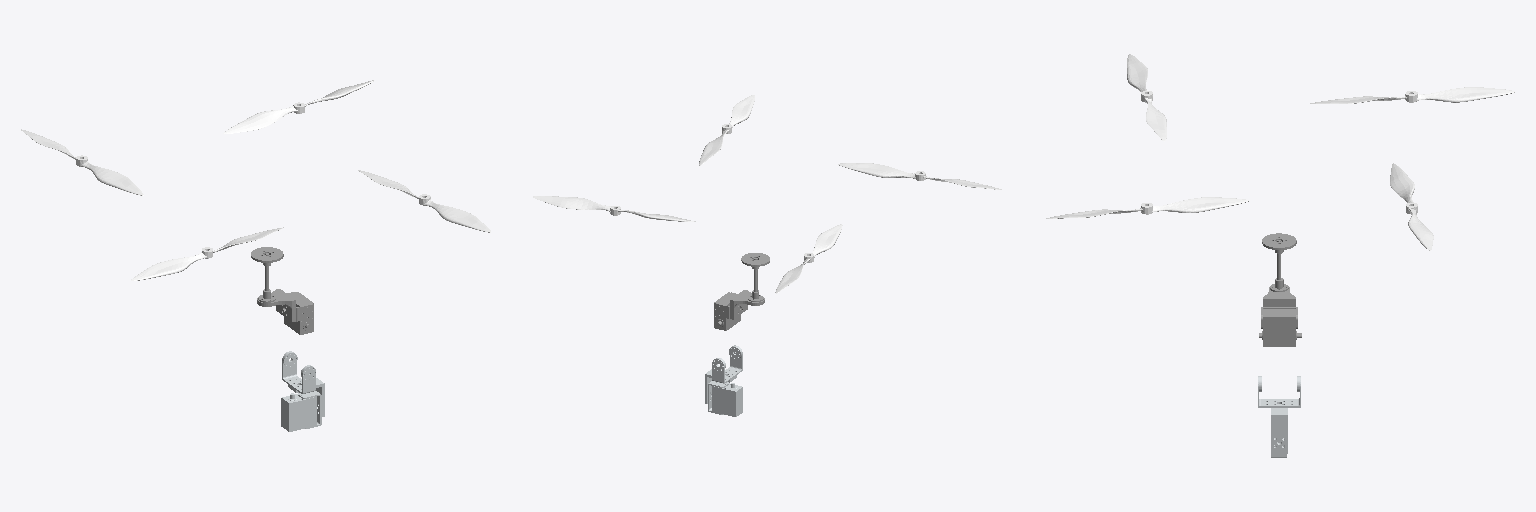
robot.urdf — hyper_robot5:
<?xml version="1.0" encoding="utf-8"?>
<!-- This URDF was automatically created by SolidWorks to URDF Exporter! Originally created by Stephen Brawner ([email redacted]) 
     Commit Version: 1.6.0-4-g7f85cfe  Build Version: 1.6.7995.38578
     For more information, please see http://wiki.ros.org/sw_urdf_exporter -->
<robot
  name="hyper_robot5">
  <link
    name="base_link">
    <inertial>
      <origin
        xyz="-0.00085945 -0.0078248 -0.031763"
        rpy="0 0 0" />
      <mass
        value="1.312" />
      <inertia
        ixx="0.0015808"
        ixy="-3.8244E-07"
        ixz="2.1856E-07"
        iyy="0.001767"
        iyz="2.7013E-07"
        izz="0.0028639" />
    </inertial>
    <visual>
      <origin
        xyz="0 0 0"
        rpy="0 0 0" />
      <geometry>
        <mesh
          filename="package://hyper_robot5/meshes/base_link.STL" />
      </geometry>
      <material
        name="">
        <color
          rgba="1 1 1 1" />
      </material>
    </visual>
    <collision>
      <origin
        xyz="0 -0.1 0"
        rpy="0 0 0" />
      <geometry>
        <!-- <mesh
          filename="package://hyper_robot5/meshes/base_link.STL" /> -->
        <box size="0.6 0.6 0.2" />
      </geometry>
    </collision>
  </link>
  <link
    name="Link1">
    <inertial>
      <origin
        xyz="0.03091 3.5089E-05 0.029993"
        rpy="0 0 0" />
      <mass
        value="0.11138" />
      <inertia
        ixx="2.6005E-05"
        ixy="-2.14E-13"
        ixz="2.8039E-07"
        iyy="1.7177E-05"
        iyz="3.7239E-08"
        izz="1.71E-05" />
    </inertial>
    <visual>
      <origin
        xyz="0 0 0"
        rpy="0 0 0" />
      <geometry>
        <mesh
          filename="package://hyper_robot5/meshes/Link1.STL" />
      </geometry>
      <material
        name="">
        <color
          rgba="0.69804 0.69804 0.69804 1" />
      </material>
    </visual>
    <!-- <collision>
      <origin
        xyz="0 0 0"
        rpy="0 0 0" />
      <geometry>
        <mesh
          filename="package://hyper_robot5/meshes/Link1.STL" />
      </geometry>
    </collision> -->
  </link>
  <joint
    name="Joint0"
    type="revolute">
    <origin
      xyz="0.02 0 -0.18065"
      rpy="0 0 0" />
    <parent
      link="base_link" />
    <child
      link="Link1" />
    <axis
      xyz="0 0 1" />
    <limit
      lower="-1.5707"
      upper="1.5707"
      effort="1"
      velocity="1" />
  </joint>
  <link
    name="Link2">
    <inertial>
      <origin
        xyz="0.044669 -3.9552E-15 -7.8627E-06"
        rpy="0 0 0" />
      <mass
        value="0.089477" />
      <inertia
        ixx="1.9359E-05"
        ixy="3.3333E-19"
        ixz="3.7239E-08"
        iyy="2.6927E-05"
        iyz="3.7967E-21"
        izz="1.3371E-05" />
    </inertial>
    <visual>
      <origin
        xyz="0 0 0"
        rpy="0 0 0" />
      <geometry>
        <mesh
          filename="package://hyper_robot5/meshes/Link2.STL" />
      </geometry>
      <material
        name="">
        <color
          rgba="0.89804 0.91765 0.92941 1" />
      </material>
    </visual>
    <!-- <collision>
      <origin
        xyz="0 0 0"
        rpy="0 0 0" />
      <geometry>
        <mesh
          filename="package://hyper_robot5/meshes/Link2.STL" />
      </geometry>
    </collision> -->
  </link>
  <joint
    name="Joint1"
    type="revolute">
    <origin
      xyz="0.0465 0 0"
      rpy="1.5708 1.5708 0" />
    <parent
      link="Link1" />
    <child
      link="Link2" />
    <axis
      xyz="0 0 1" />
    <limit
      lower="-1.5707"
      upper="1.5707"
      effort="1"
      velocity="1" />
  </joint>
  <link
    name="Link3">
    <inertial>
      <origin
        xyz="-0.0027639 0.053128 3.399E-05"
        rpy="0 0 0" />
      <mass
        value="0.09428" />
      <inertia
        ixx="2.1264E-05"
        ixy="4.9299E-07"
        ixz="3.2007E-18"
        iyy="1.7761E-05"
        iyz="-5.243E-19"
        izz="2.4231E-05" />
    </inertial>
    <visual>
      <origin
        xyz="0 0 0"
        rpy="0 0 0" />
      <geometry>
        <mesh
          filename="package://hyper_robot5/meshes/Link3.STL" />
      </geometry>
      <material
        name="">
        <color
          rgba="0.89804 0.91765 0.92941 1" />
      </material>
    </visual>
    <!-- <collision>
      <origin
        xyz="0 0 0"
        rpy="0 0 0" />
      <geometry>
        <mesh
          filename="package://hyper_robot5/meshes/Link3.STL" />
      </geometry>
    </collision> -->
  </link>
  <joint
    name="Joint2"
    type="revolute">
    <origin
      xyz="0.06365 0 0"
      rpy="0 0 -1.5708" />
    <parent
      link="Link2" />
    <child
      link="Link3" />
    <axis
      xyz="0 0 -1" />
    <limit
      lower="-1.5707"
      upper="1.5707"
      effort="1"
      velocity="1" />
  </joint>
  <link
    name="Link4">
    <inertial>
      <origin
        xyz="2.867E-14 0.0031256 -0.024086"
        rpy="0 0 0" />
      <mass
        value="0.09428" />
      <inertia
        ixx="2.8558E-05"
        ixy="-5.4313E-20"
        ixz="1.1994E-18"
        iyy="1.7996E-05"
        iyz="4.1851E-07"
        izz="1.6701E-05" />
    </inertial>
    <visual>
      <origin
        xyz="0 0 0"
        rpy="0 0 0" />
      <geometry>
        <mesh
          filename="package://hyper_robot5/meshes/Link4.STL" />
      </geometry>
      <material
        name="">
        <color
          rgba="0.89804 0.91765 0.92941 1" />
      </material>
    </visual>
    <!-- <collision>
      <origin
        xyz="0 0 0"
        rpy="0 0 0" />
      <geometry>
        <mesh
          filename="package://hyper_robot5/meshes/Link4.STL" />
      </geometry>
    </collision> -->
  </link>
  <joint
    name="Joint3"
    type="revolute">
    <origin
      xyz="0.00965 0.13565 0"
      rpy="1.5708 -1.5708 0" />
    <parent
      link="Link3" />
    <child
      link="Link4" />
    <axis
      xyz="0 0 1" />
    <limit
      lower="-1.5707"
      upper="1.5707"
      effort="1"
      velocity="1" />
  </joint>
  <link
    name="Link5">
    <inertial>
      <origin
        xyz="-9.7548E-14 0.044044 8.1785E-05"
        rpy="0 0 0" />
      <mass
        value="0.039183" />
      <inertia
        ixx="2.725E-05"
        ixy="4.2357E-17"
        ixz="-4.6187E-18"
        iyy="8.1409E-06"
        iyz="3.2941E-18"
        izz="2.2451E-05" />
    </inertial>
    <visual>
      <origin
        xyz="0 0 0"
        rpy="0 0 0" />
      <geometry>
        <mesh
          filename="package://hyper_robot5/meshes/Link5.STL" />
      </geometry>
      <material
        name="">
        <color
          rgba="0.89804 0.91765 0.92941 1" />
      </material>
    </visual>
    <!-- <collision>
      <origin
        xyz="0 0 0"
        rpy="0 0 0" />
      <geometry>
        <mesh
          filename="package://hyper_robot5/meshes/Link5.STL" />
      </geometry>
    </collision> -->
  </link>
  <joint
    name="Joint4"
    type="revolute">
    <origin
      xyz="0 0 0"
      rpy="1.5708 0 0" />
    <parent
      link="Link4" />
    <child
      link="Link5" />
    <axis
      xyz="0 0 1" />
    <limit
      lower="-1.5707"
      upper="1.5707"
      effort="1"
      velocity="1" />
  </joint>
  <link
    name="Link6">
    <inertial>
      <origin
        xyz="-2.6202E-08 -2.259E-08 -0.067545"
        rpy="0 0 0" />
      <mass
        value="0.0096839" />
      <inertia
        ixx="1.0979E-05"
        ixy="-1.7005E-13"
        ixz="1.5693E-11"
        iyy="1.0979E-05"
        iyz="1.3536E-11"
        izz="1.0733E-07" />
    </inertial>
    <visual>
      <origin
        xyz="0 0 0"
        rpy="0 0 0" />
      <geometry>
        <mesh
          filename="package://hyper_robot5/meshes/Link6.STL" />
      </geometry>
      <material
        name="">
        <color
          rgba="0.69804 0.69804 0.69804 1" />
      </material>
    </visual>
    <!-- <collision>
      <origin
        xyz="0 0 0"
        rpy="0 0 0" />
      <geometry>
        <mesh
          filename="package://hyper_robot5/meshes/Link6.STL" />
      </geometry>
    </collision> -->
  </link>
  <joint
    name="Joint5"
    type="revolute">
    <origin
      xyz="0 0.17738 0"
      rpy="-1.5708 0 0" />
    <parent
      link="Link5" />
    <child
      link="Link6" />
    <axis
      xyz="0 0 1" />
    <limit
      lower="-1.5707"
      upper="1.5707"
      effort="1"
      velocity="1" />
  </joint>
  <link
    name="rotor0">
    <inertial>
      <origin
        xyz="1.9715E-13 -0.0044832 -3.5041E-14"
        rpy="0 0 0" />
      <mass
        value="0.022944" />
      <inertia
        ixx="8.117E-07"
        ixy="-1.5304E-17"
        ixz="2.5395E-06"
        iyy="9.7213E-05"
        iyz="2.8509E-18"
        izz="9.6561E-05" />
    </inertial>
    <visual>
      <origin
        xyz="0 0 0"
        rpy="0 0 0" />
      <geometry>
        <mesh
          filename="package://hyper_robot5/meshes/rotor0.STL" />
      </geometry>
      <material
        name="">
        <color
          rgba="1 1 1 1" />
      </material>
    </visual>
    <!-- <collision>
      <origin
        xyz="0 0 0"
        rpy="0 0 0" />
      <geometry>
        <mesh
          filename="package://hyper_robot5/meshes/rotor0.STL" />
      </geometry>
    </collision> -->
  </link>
  <joint
    name="rotor0_joint"
    type="continuous">
    <origin
      xyz="0.15778 -0.15778 0.022914"
      rpy="-1.5708 0 1.7863" />
    <parent
      link="base_link" />
    <child
      link="rotor0" />
    <axis
      xyz="0 1 0" />
  </joint>
  <link
    name="rotor1">
    <inertial>
      <origin
        xyz="-7.7446E-10 -0.0044832 2.7986E-10"
        rpy="0 0 0" />
      <mass
        value="0.022944" />
      <inertia
        ixx="8.1171E-07"
        ixy="4.1874E-14"
        ixz="2.5395E-06"
        iyy="9.7213E-05"
        iyz="-1.6511E-14"
        izz="9.6562E-05" />
    </inertial>
    <visual>
      <origin
        xyz="0 0 0"
        rpy="0 0 0" />
      <geometry>
        <mesh
          filename="package://hyper_robot5/meshes/rotor1.STL" />
      </geometry>
      <material
        name="">
        <color
          rgba="1 1 1 1" />
      </material>
    </visual>
    <!-- <collision>
      <origin
        xyz="0 0 0"
        rpy="0 0 0" />
      <geometry>
        <mesh
          filename="package://hyper_robot5/meshes/rotor1.STL" />
      </geometry>
    </collision> -->
  </link>
  <joint
    name="rotor1_joint"
    type="continuous">
    <origin
      xyz="-0.15778 0.15778 0.022914"
      rpy="-1.5708 0 1.7179" />
    <parent
      link="base_link" />
    <child
      link="rotor1" />
    <axis
      xyz="0 1 0" />
  </joint>
  <link
    name="rotor2">
    <inertial>
      <origin
        xyz="2.4821E-09 0.0060996 3.4129E-10"
        rpy="0 0 0" />
      <mass
        value="0.022896" />
      <inertia
        ixx="8.0904E-07"
        ixy="5.4318E-14"
        ixz="-2.5351E-06"
        iyy="9.711E-05"
        iyz="2.2555E-14"
        izz="9.646E-05" />
    </inertial>
    <visual>
      <origin
        xyz="0 0 0"
        rpy="0 0 0" />
      <geometry>
        <mesh
          filename="package://hyper_robot5/meshes/rotor2.STL" />
      </geometry>
      <material
        name="">
        <color
          rgba="1 1 1 1" />
      </material>
    </visual>
    <!-- <collision>
      <origin
        xyz="0 0 0"
        rpy="0 0 0" />
      <geometry>
        <mesh
          filename="package://hyper_robot5/meshes/rotor2.STL" />
      </geometry>
    </collision> -->
  </link>
  <joint
    name="rotor2_joint"
    type="continuous">
    <origin
      xyz="0.15778 0.15778 0.0245"
      rpy="1.5708 0 0.18169" />
    <parent
      link="base_link" />
    <child
      link="rotor2" />
    <axis
      xyz="0 1 0" />
  </joint>
  <link
    name="rotor3">
    <inertial>
      <origin
        xyz="1.4557E-08 -0.0045503 2.7709E-09"
        rpy="0 0 0" />
      <mass
        value="0.022896" />
      <inertia
        ixx="8.0904E-07"
        ixy="6.176E-13"
        ixz="-2.5351E-06"
        iyy="9.7111E-05"
        iyz="6.4653E-14"
        izz="9.6461E-05" />
    </inertial>
    <visual>
      <origin
        xyz="0 0 0"
        rpy="0 0 0" />
      <geometry>
        <mesh
          filename="package://hyper_robot5/meshes/rotor3.STL" />
      </geometry>
      <material
        name="">
        <color
          rgba="1 1 1 1" />
      </material>
    </visual>
    <!-- <collision>
      <origin
        xyz="0 0 0"
        rpy="0 0 0" />
      <geometry>
        <mesh
          filename="package://hyper_robot5/meshes/rotor3.STL" />
      </geometry>
    </collision> -->
  </link>
  <joint
    name="rotor3_joint"
    type="continuous">
    <origin
      xyz="-0.15778 -0.15778 0.02285"
      rpy="-1.5708 0 -2.9802" />
    <parent
      link="base_link" />
    <child
      link="rotor3" />
    <axis
      xyz="0 1 0" />
  </joint>
</robot>

--- Facts derived from the render (not from the file) ---
The picture shows the robot from 3 angles, left to right: view 1: azimuth 30°, elevation 25°; view 2: azimuth 150°, elevation 25°; view 3: azimuth 270°, elevation 25°; orthographic projection.
Robot: hyper_robot5 — 11 links, 10 joints (6 revolute, 4 continuous); root link base_link; default pose: every joint at zero.
Visible links, largest first — view 1: Link3, Link1, rotor3, rotor2, rotor0, rotor1; view 2: Link3, Link1, rotor3, rotor2, rotor1, rotor0; view 3: Link1, rotor1, rotor0, Link3, rotor2, rotor3.
Boxes of the visible links, box(x1,y1,x2,y2) form: Link3: box(281, 351, 324, 431); Link1: box(251, 247, 313, 334); rotor3: box(131, 227, 283, 280); rotor2: box(223, 80, 374, 133); rotor0: box(358, 170, 490, 232); rotor1: box(21, 129, 143, 195); Link3: box(705, 345, 742, 416); Link1: box(714, 253, 769, 330); rotor3: box(838, 163, 1001, 189); rotor2: box(533, 196, 695, 221); rotor1: box(775, 224, 842, 293); rotor0: box(699, 95, 754, 165); Link1: box(1259, 233, 1301, 346); rotor1: box(1310, 87, 1514, 103); rotor0: box(1046, 197, 1248, 218); Link3: box(1258, 376, 1300, 457); rotor2: box(1390, 163, 1433, 250); rotor3: box(1127, 54, 1166, 141).
Size in the robot's own frame: 0.5619 by 0.5616 by 0.3659 metres.
6 mesh visuals loaded from 11 distinct referenced files (6 binary STL); not drawn: 5 (reference not matched to a file when rendering).
